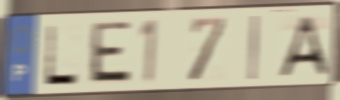1: (138, 17, 158, 87)
7: (188, 15, 229, 85)
A: (275, 13, 330, 80)
E: (86, 19, 134, 87)
I: (247, 13, 261, 83)
L: (42, 22, 80, 87)
